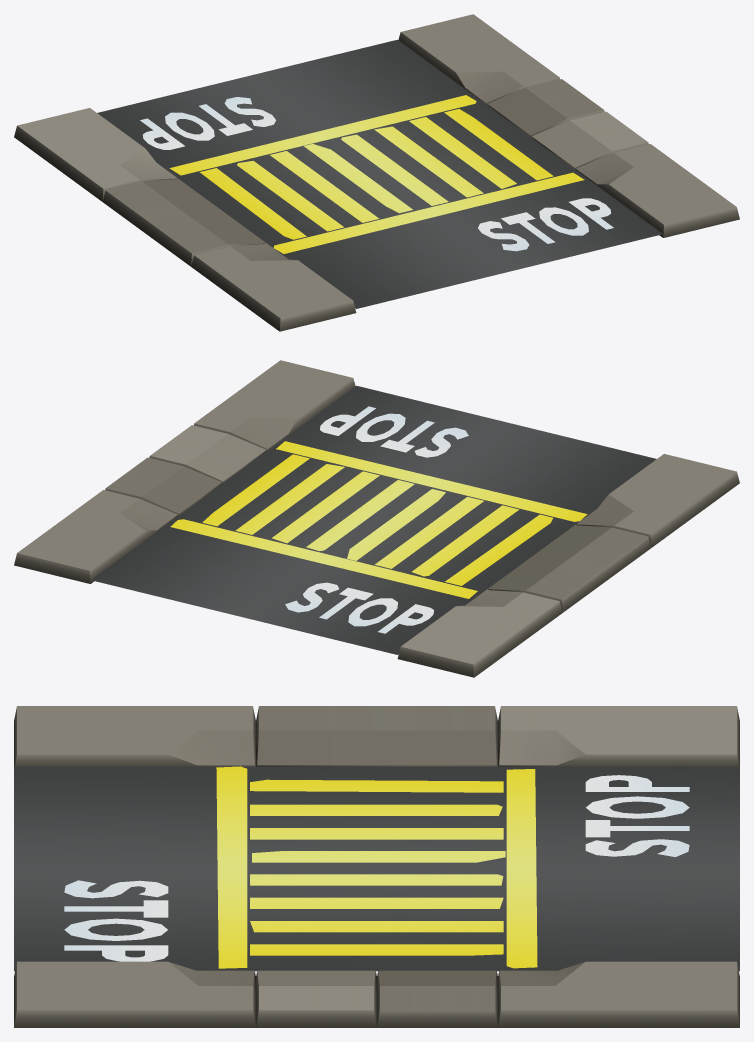
Rendered from Road_3Z.fbx.
The picture shows the model from 3 angles, top to bottom: view 1: azimuth 30°, elevation 25°; view 2: azimuth 150°, elevation 25°; view 3: azimuth 270°, elevation 25°; orthographic projection. The views are drawn at different scales.
Parts seen in each view (by area): view 1: Road_3Z; view 2: Road_3Z; view 3: Road_3Z.
Part boxes in pixels (x1,y1,x2,y2): Road_3Z: (14,14,739,331); Road_3Z: (14,360,739,677); Road_3Z: (14,706,739,1027).
Size of the model in its own units: 1200 by 30 by 1200.
